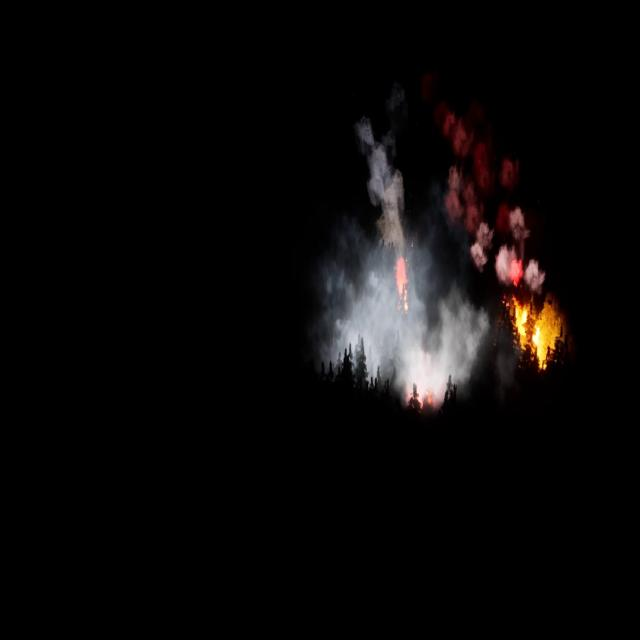fire: (512, 299, 554, 363), (389, 248, 414, 320)
smoke: (315, 116, 493, 404), (435, 99, 544, 301)
